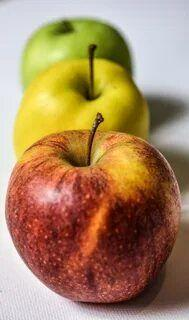fruit: (7, 133, 180, 303), (12, 60, 148, 130), (19, 20, 130, 60)
